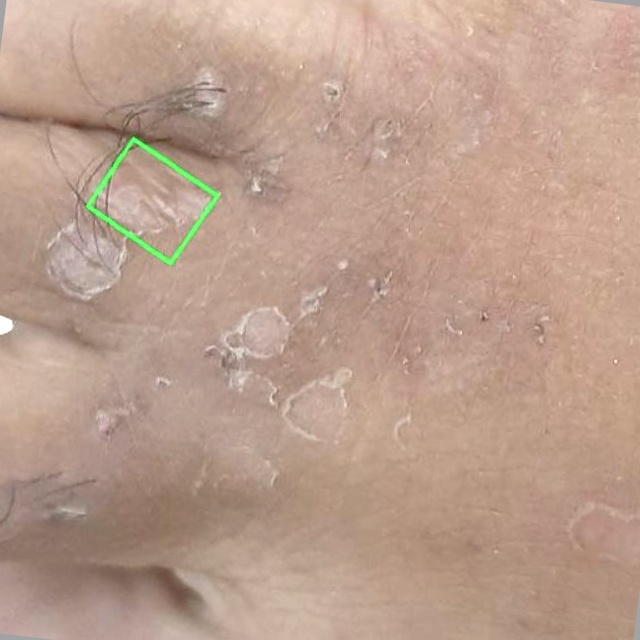Eczema: (87, 138, 218, 264)
